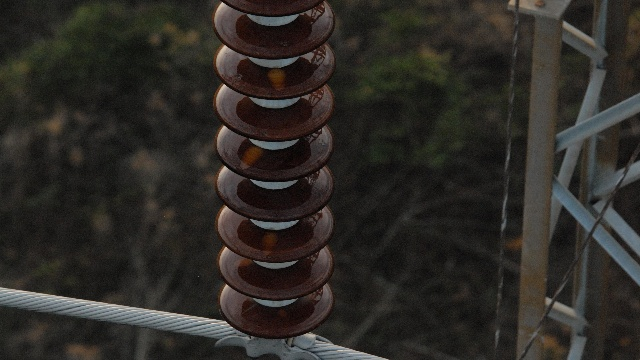insulator_unspecified: (212, 0, 339, 334)
pollution_flashover_local: (240, 145, 261, 169), (262, 228, 280, 255), (266, 65, 286, 89)
